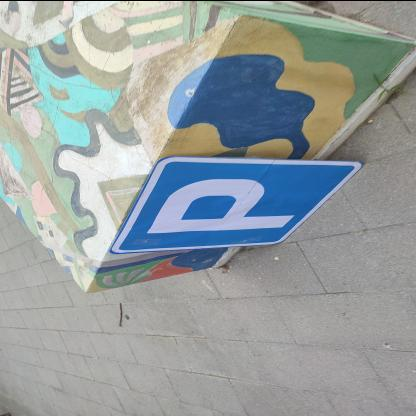Parking-Sign: (110, 156, 363, 254)
